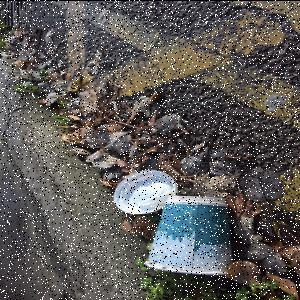Cup: (145, 196, 233, 276)
